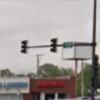traffic lights: (21, 39, 27, 54)
